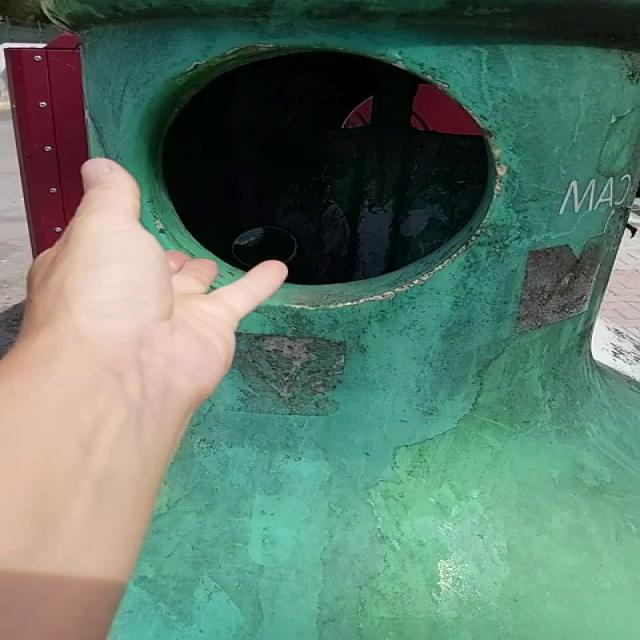glass: (232, 226, 297, 267)
